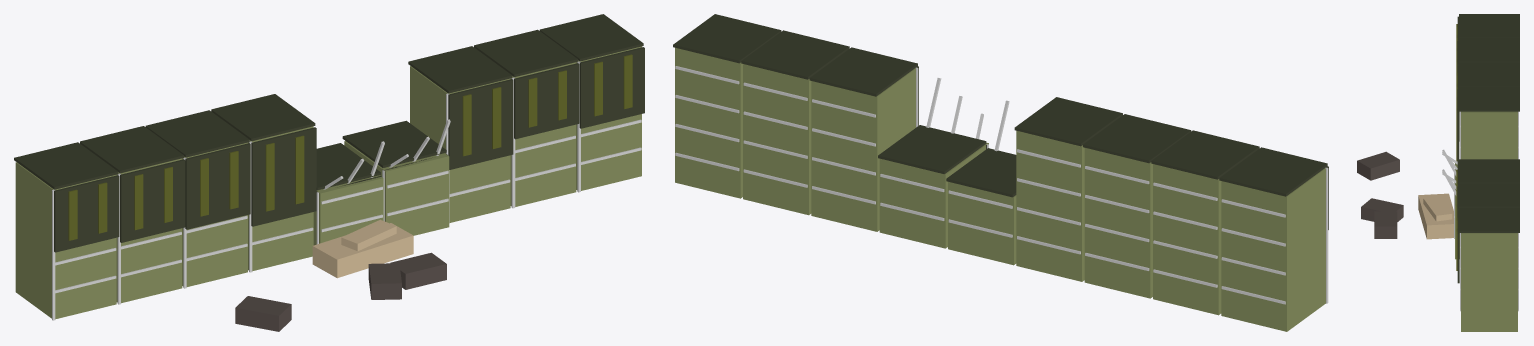
The model's file is SM_MuroHesco_v4_Red_e1_Danado_LOD0.fbx.
The picture shows the model from 3 angles, left to right: view 1: azimuth 30°, elevation 25°; view 2: azimuth 150°, elevation 25°; view 3: azimuth 270°, elevation 25°; orthographic projection. The views are drawn at different scales.
Parts seen in each view (by area): view 1: SM_bloques.muro_hesco_estados_v17_LOD0; view 2: SM_bloques.muro_hesco_estados_v17_LOD0; view 3: SM_bloques.muro_hesco_estados_v17_LOD0.
Part boxes in pixels (box(x1,y1,x2,y2)): SM_bloques.muro_hesco_estados_v17_LOD0: box(14, 14, 644, 331); SM_bloques.muro_hesco_estados_v17_LOD0: box(673, 14, 1328, 331); SM_bloques.muro_hesco_estados_v17_LOD0: box(1357, 14, 1519, 331).
Size of the model in its own units: 9.99 by 2.16 by 3.16.
